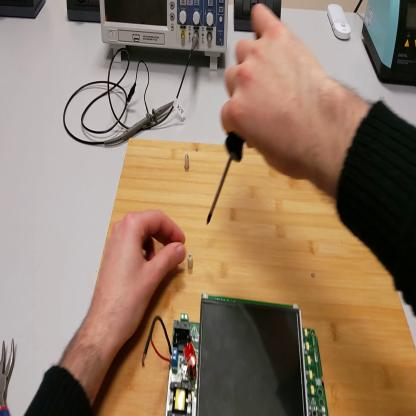hand: (221, 6, 329, 181), (91, 207, 186, 346)
low voltage board: (144, 301, 324, 414)
oscilloscope: (100, 1, 230, 70)
oscilloscope probe tip: (103, 98, 176, 147)
pliers: (2, 339, 16, 416)
screwdriver-: (206, 135, 246, 228)
socket: (66, 1, 102, 26), (2, 3, 47, 21)
welder station: (364, 3, 416, 87)
working area: (91, 138, 416, 416)
